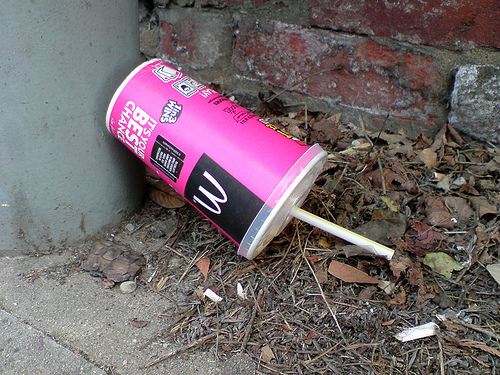litter: (102, 57, 394, 265)
